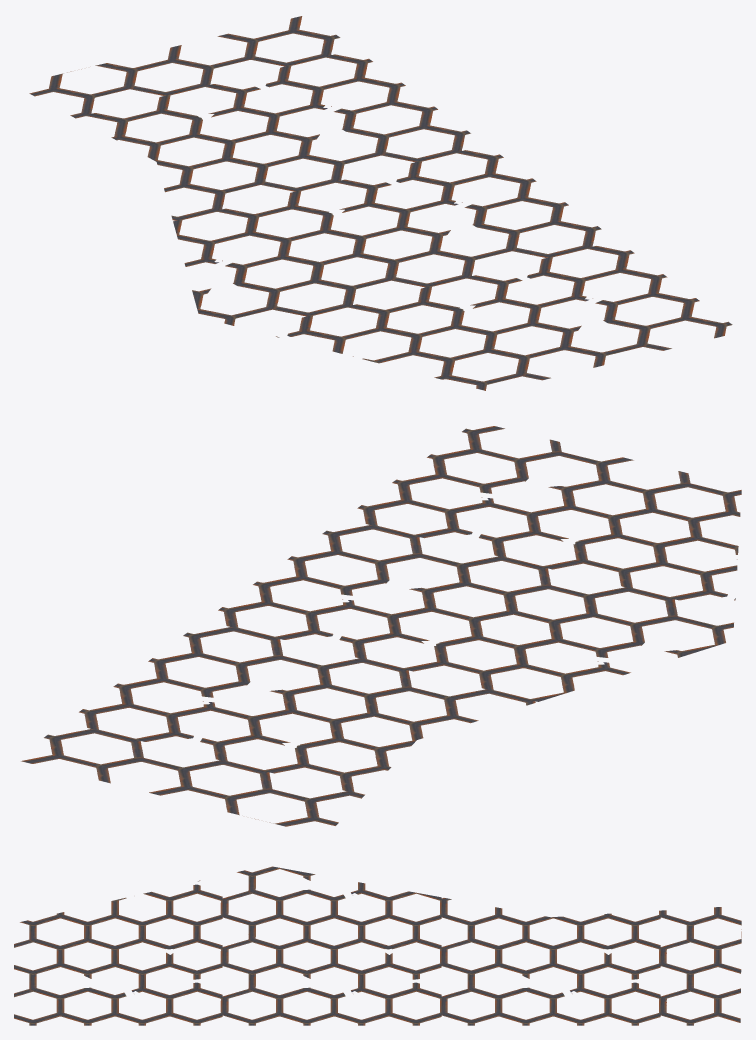
The model's file is huoshan_wujian02a.fbx.
3 renders of one model, top to bottom at view 1: azimuth 30°, elevation 25°; view 2: azimuth 150°, elevation 25°; view 3: azimuth 270°, elevation 25°, orthographic. The views are drawn at different scales.
Parts seen in each view (by area): view 1: huoshan_wujian02a; view 2: huoshan_wujian02a; view 3: huoshan_wujian02a.
Boxes of the visible parts, x1,y1,x2,y2 form: huoshan_wujian02a: (29,16,732,390); huoshan_wujian02a: (21,426,741,826); huoshan_wujian02a: (14,866,741,1025).
Size of the model in its own units: 1.09 by 9.12e-08 by 2.09.
